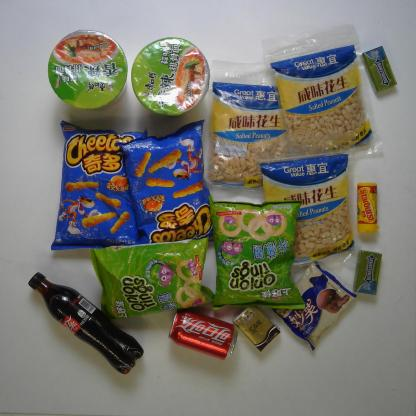Candy: (356, 182, 379, 233)
Dessert: (277, 263, 358, 351)
Dried Fruit: (270, 45, 370, 151), (260, 154, 355, 264), (209, 81, 280, 185)
Drink: (28, 272, 144, 376), (168, 310, 239, 360)
Gum: (362, 45, 395, 93), (352, 249, 382, 295)
Instant Noodles: (130, 36, 210, 118), (48, 29, 128, 110)
Puffed Food: (51, 121, 150, 252), (116, 119, 216, 242), (211, 196, 305, 312), (89, 236, 215, 320)
Tissue: (232, 304, 278, 353)
